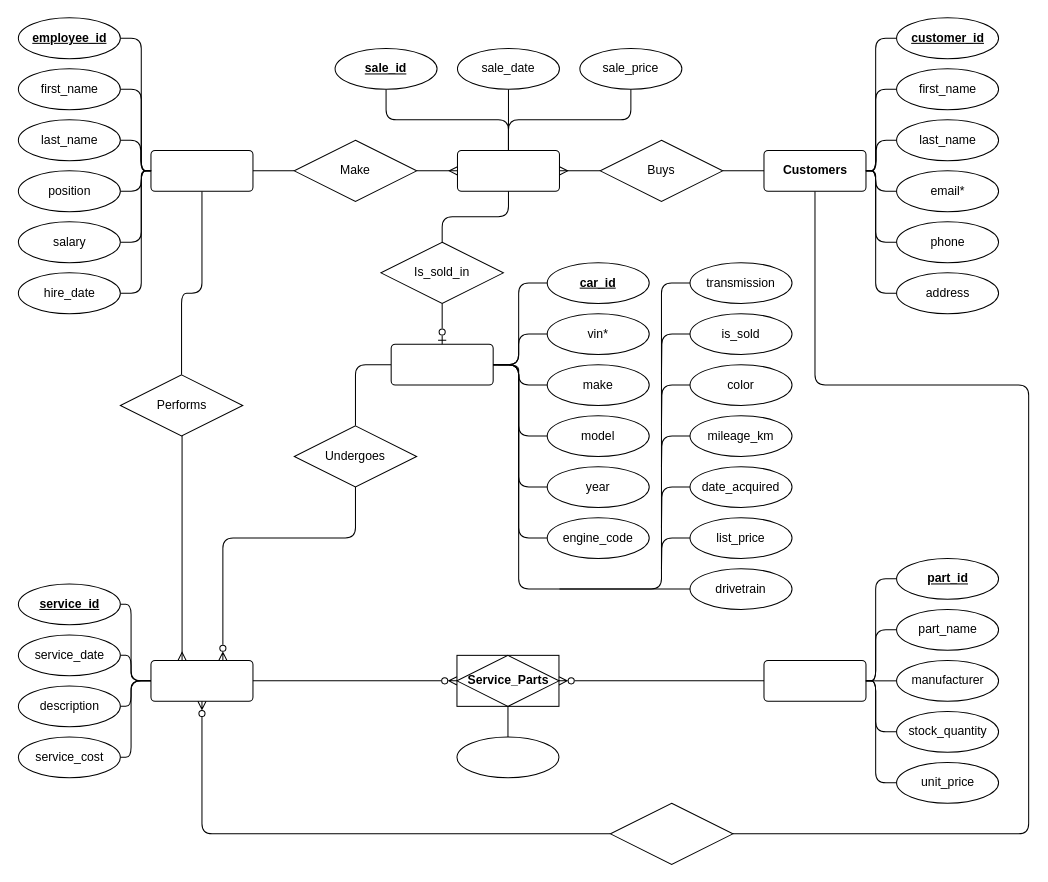
Image size: 1048x882. Some labels were removed from this diagram. The shapes that lost their labels are listed below. From the top down, each one's centre as x and y in pixels, then its label:
At (x=201, y=170): "Employees".
At (x=507, y=170): "Sales".
At (x=441, y=364): "Cars".
At (x=201, y=680): "Services".
At (x=814, y=680): "Parts".
At (x=507, y=757): "quantity_used".
At (x=671, y=833): "Request".
